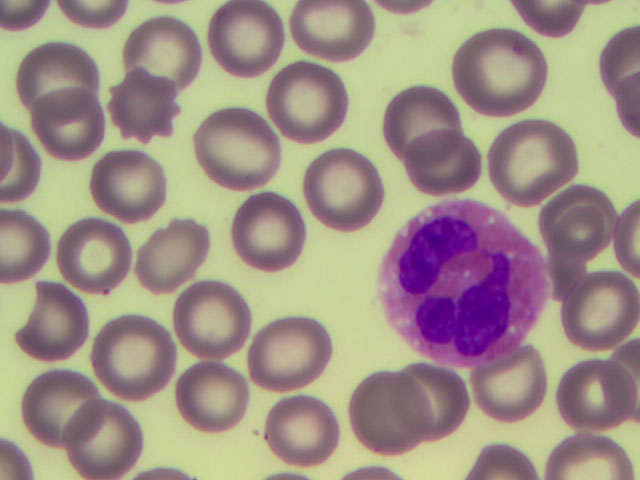RBC: (490, 116, 571, 199), (405, 131, 486, 214), (378, 83, 459, 166), (458, 31, 539, 114), (269, 60, 350, 143), (307, 146, 388, 229), (230, 190, 311, 273), (209, 1, 290, 84), (296, 1, 377, 83), (553, 363, 638, 429), (555, 276, 640, 342), (542, 188, 627, 254), (19, 37, 94, 109), (34, 94, 109, 166), (108, 76, 183, 148), (119, 13, 194, 85), (196, 113, 271, 185), (96, 145, 171, 217), (58, 217, 133, 289), (15, 285, 90, 357), (126, 218, 201, 290), (172, 282, 247, 354), (99, 319, 174, 391), (22, 366, 97, 438), (65, 408, 140, 480), (174, 363, 249, 435), (248, 318, 323, 390), (262, 390, 337, 462), (346, 378, 421, 450), (398, 361, 473, 433), (470, 349, 545, 421), (542, 431, 640, 480), (1, 205, 51, 282), (1, 124, 51, 201), (458, 440, 542, 480)
WBC: (377, 203, 541, 366)
